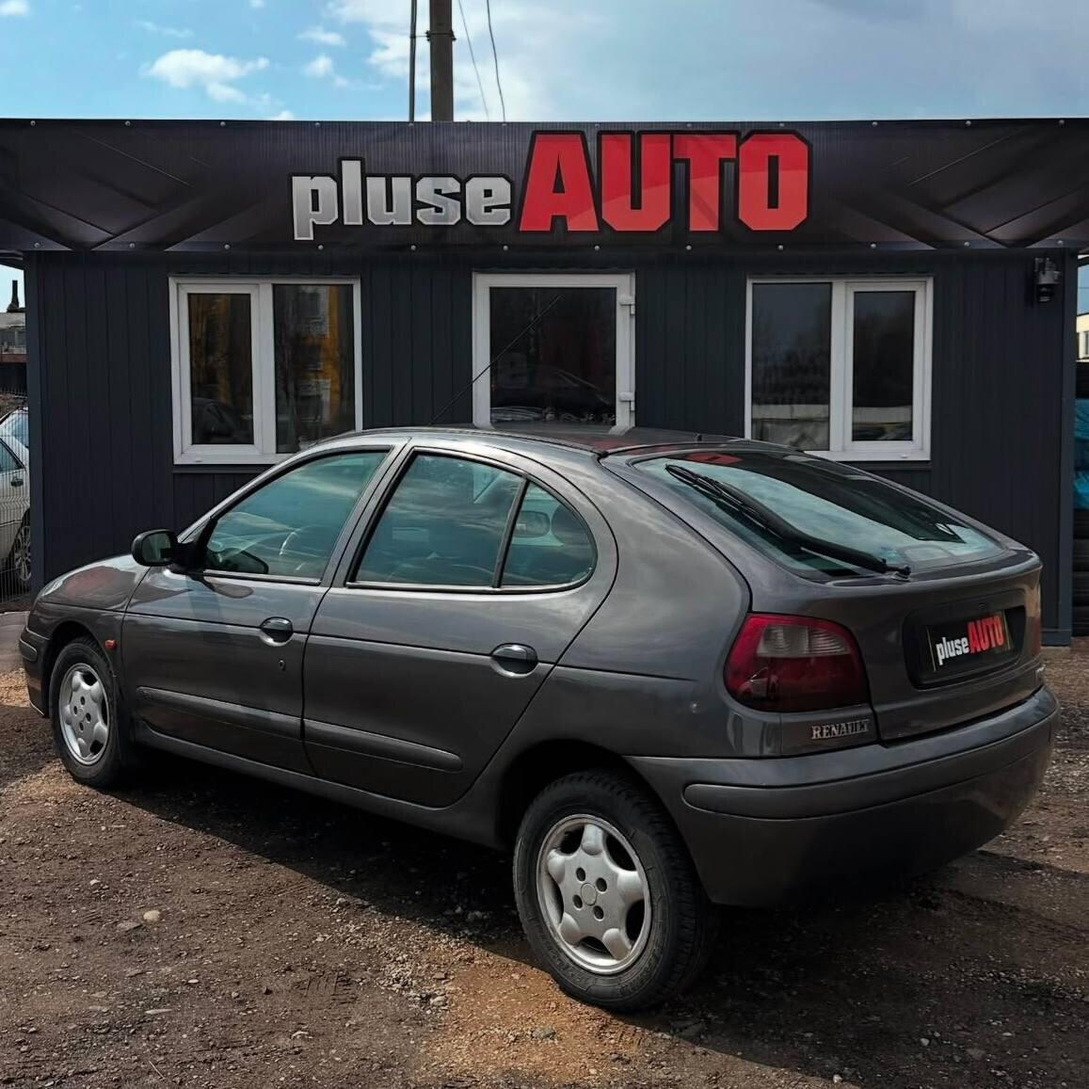Megane_1999-2003: (14, 420, 1067, 993)
